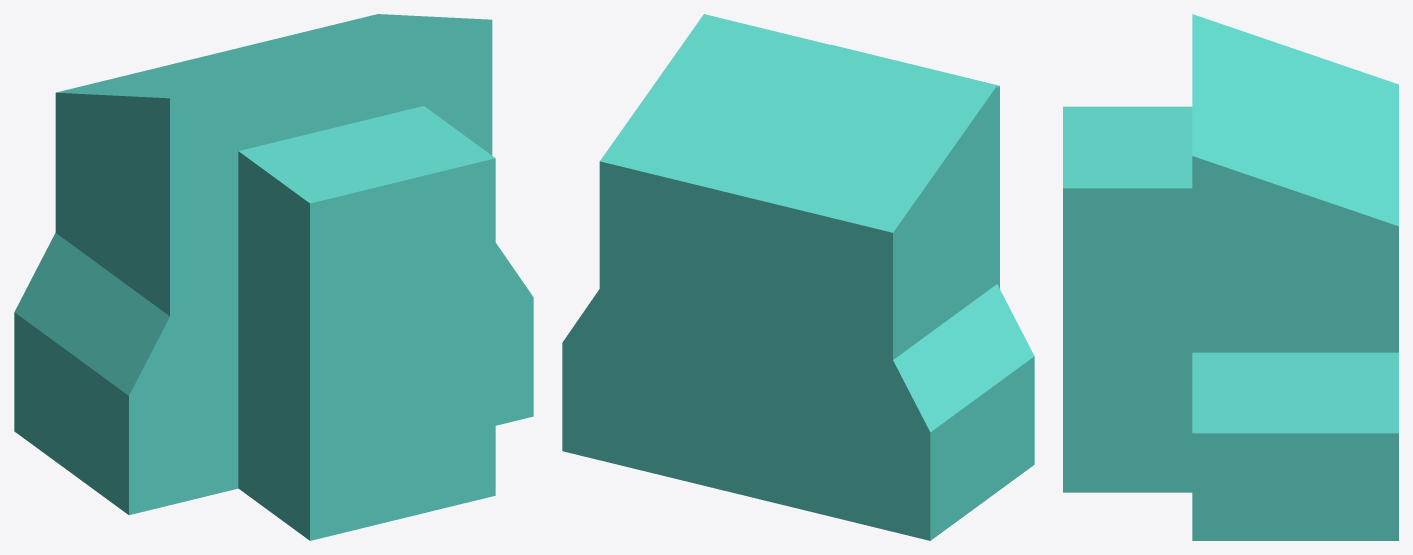
File: Trashcan.fbx
3 views of the same model, side by side, from view 1: azimuth 30°, elevation 25°; view 2: azimuth 150°, elevation 25°; view 3: azimuth 270°, elevation 25° (orthographic). The views are drawn at different scales.
Visible parts, largest first — view 1: Trashcan; view 2: Trashcan; view 3: Trashcan.
Part boxes in pixels (x1,y1,x2,y2): Trashcan: (14,14,533,540); Trashcan: (562,14,1034,540); Trashcan: (1063,14,1398,540).
Bounding box in the file's own units: 53.69 × 51.59 × 42.79.
